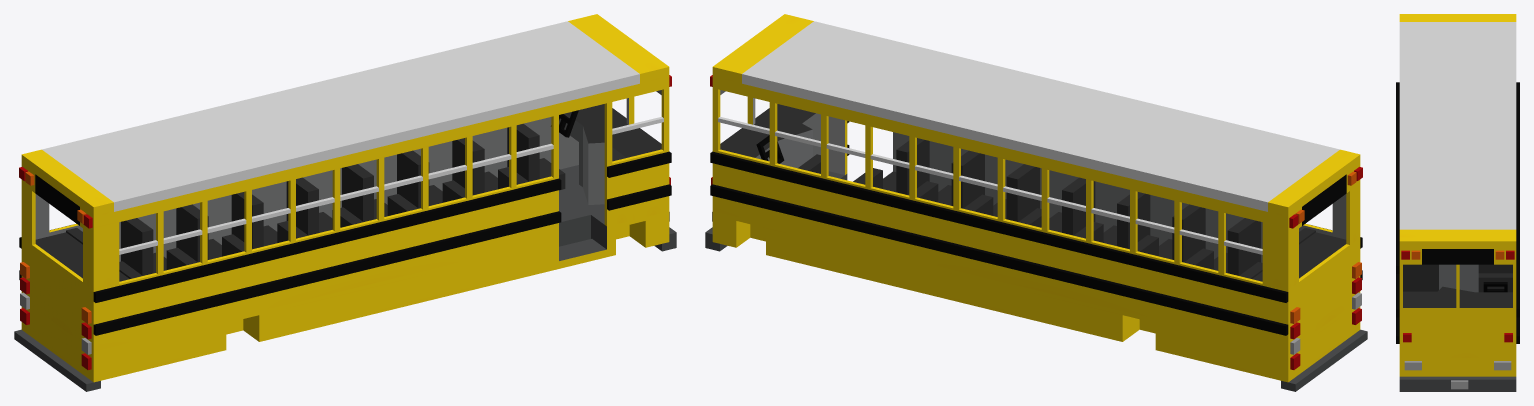
Rendered from school_bus.glb.
The picture shows the model from 3 angles, left to right: view 1: azimuth 30°, elevation 25°; view 2: azimuth 150°, elevation 25°; view 3: azimuth 270°, elevation 25°; orthographic projection. The views are drawn at different scales.
Visible parts, largest first — view 1: cube_87, cube_14, cube_6, cube_15, cube_70, cube_72, cube_73, cube_5, cube_19, cube_86, cube_88, cube_11 (+26 smaller); view 2: cube_87, cube_15, cube_6, cube_76, cube_77, cube_69, cube_14, cube_5, cube_19, cube_86, cube_88, cube_11 (+19 smaller); view 3: cube_87, cube_16, cube_86, cube_112, cube_7, cube_85, cube_115, cube_11, cube_76, cube_88, cube_72, cube_149 (+16 smaller).
Boxes of the visible parts, x1,y1,x2,y2 form: cube_87: (42, 21, 639, 211); cube_14: (91, 176, 558, 351); cube_6: (243, 242, 558, 341); cube_15: (21, 117, 578, 292); cube_70: (91, 76, 669, 228); cube_72: (93, 178, 561, 302); cube_73: (93, 211, 561, 335); cube_5: (21, 307, 226, 382); cube_19: (23, 239, 91, 342); cube_86: (568, 14, 669, 83); cube_88: (21, 149, 113, 216); cube_11: (30, 238, 558, 355); cube_87: (742, 21, 1339, 211); cube_15: (712, 149, 1290, 351); cube_6: (823, 242, 1139, 341); cube_76: (710, 151, 1288, 302); cube_77: (710, 184, 1288, 335); cube_69: (712, 76, 1290, 228); cube_14: (893, 132, 1360, 292); cube_5: (1155, 307, 1360, 382); cube_19: (1290, 239, 1358, 342); cube_86: (712, 14, 813, 83); cube_88: (1268, 149, 1360, 216); cube_11: (823, 238, 1351, 355); cube_87: (1399, 22, 1516, 229); cube_16: (1403, 300, 1512, 357); cube_86: (1399, 229, 1516, 248); cube_112: (1399, 376, 1516, 391); cube_7: (1399, 361, 1516, 376); cube_85: (1422, 249, 1493, 264); cube_115: (1403, 264, 1438, 291); cube_11: (1439, 264, 1478, 292); cube_76: (1516, 82, 1519, 317); cube_88: (1399, 14, 1516, 21); cube_72: (1396, 82, 1399, 273); cube_149: (1403, 292, 1480, 299).
Bounding box in the file's own units: 20.37 × 5.94 × 4.5.
Materials: 1 (1 with a texture image).
